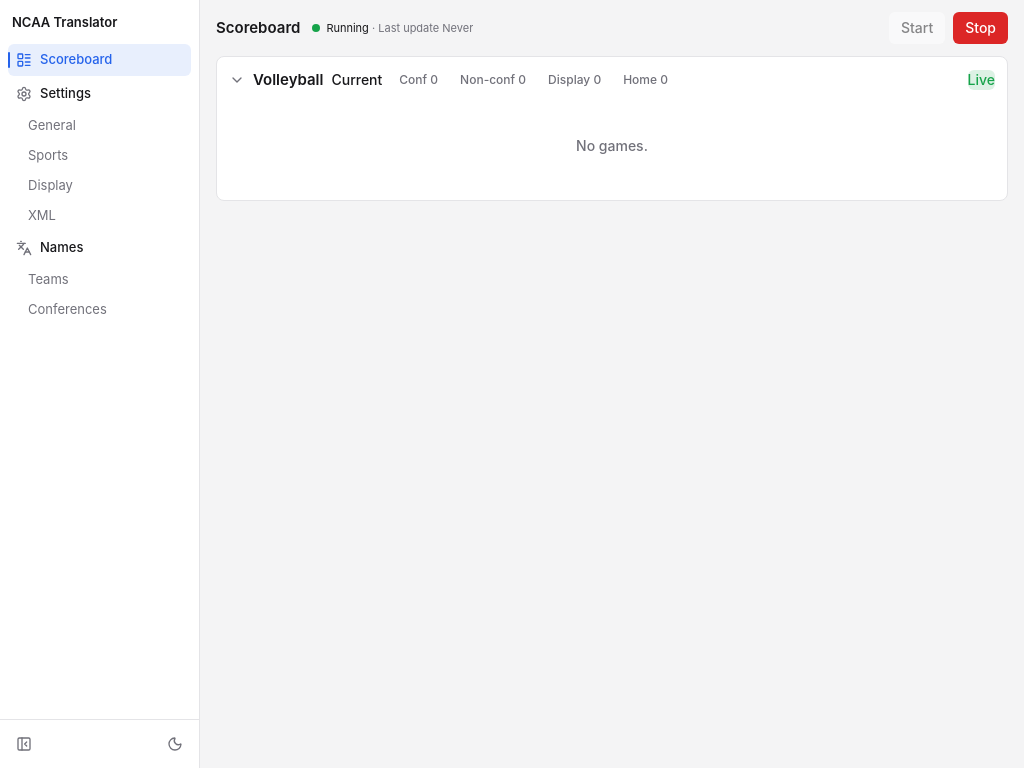
Test case: App › cycles Live, All, and Display from the scoreboard
Click the button with aria-label "Cycle display mode, currently Live": (981, 80) x1=968 y1=70 x2=995 y2=90
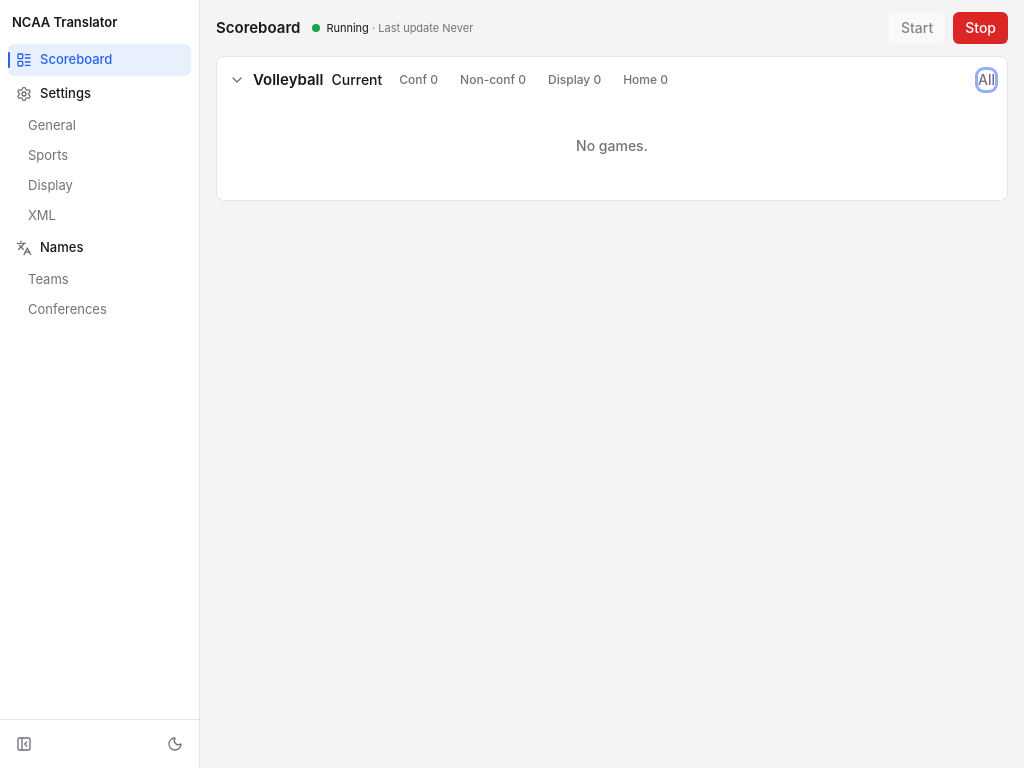
Click the button with aria-label "Cycle display mode, currently All": (986, 80) x1=978 y1=70 x2=995 y2=90
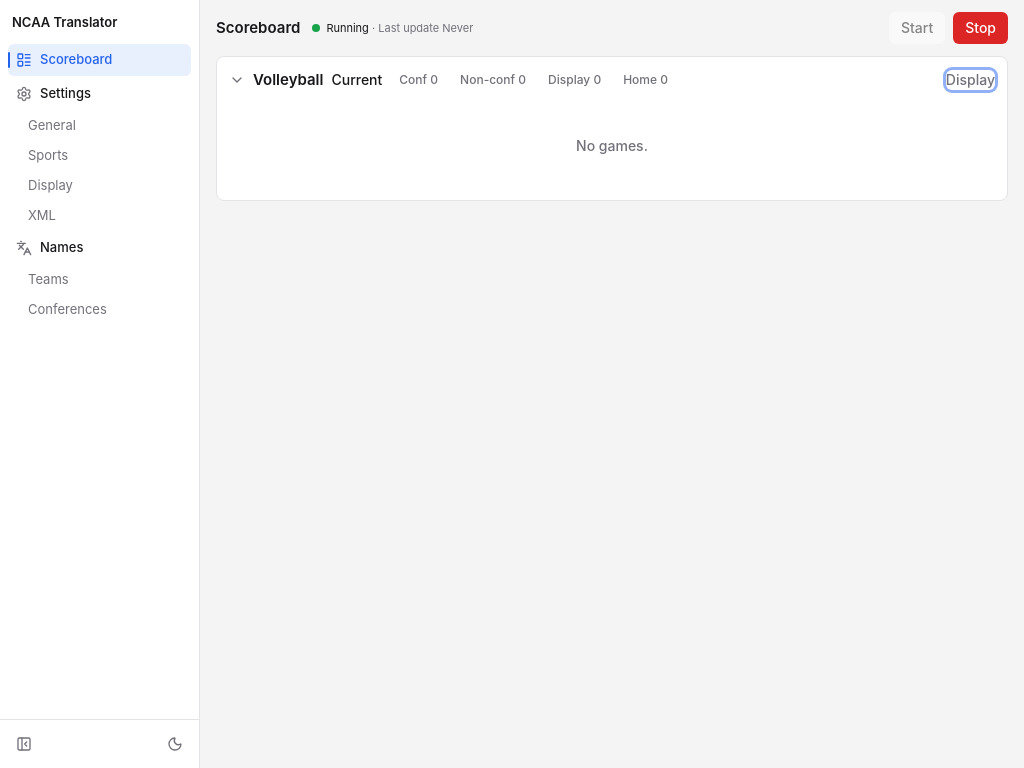
Click the button with aria-label "Cycle display mode, currently Display": (970, 80) x1=946 y1=70 x2=995 y2=90
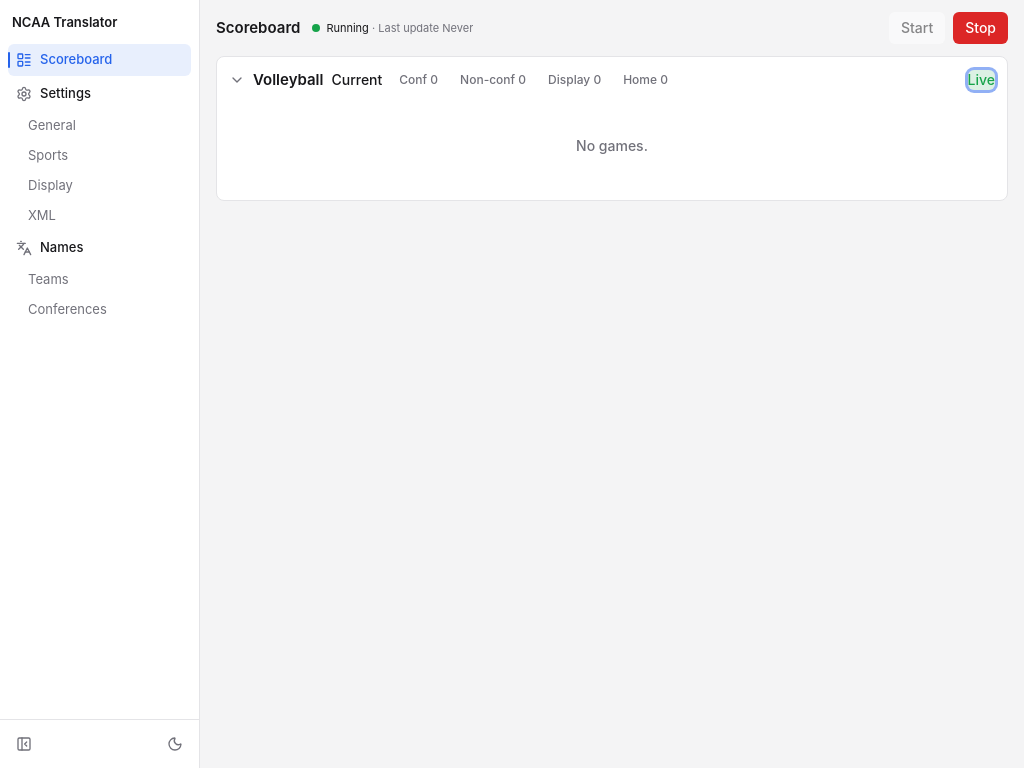
Check: the button with aria-label "Cycle display mode, currently Live" is shown, box x1=968 y1=70 x2=995 y2=90
